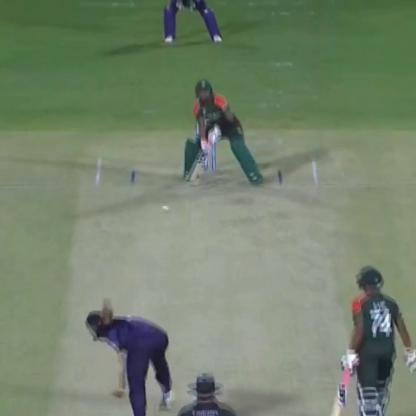ball: (152, 199, 174, 214)
bat: (179, 141, 214, 200), (332, 363, 354, 415)
pitch: (67, 148, 341, 416)
